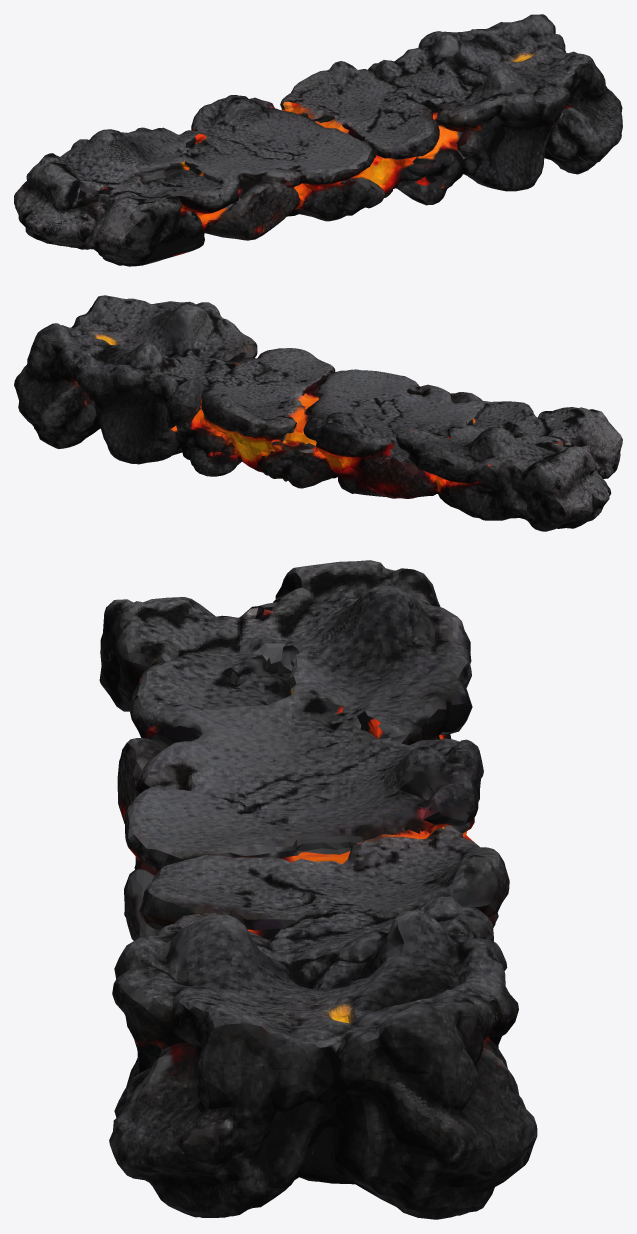
Rendered from volcano_cave_crusted_lava_bank.glb.
3 views of the same model, one above another, from view 1: azimuth 30°, elevation 25°; view 2: azimuth 150°, elevation 25°; view 3: azimuth 270°, elevation 25° (orthographic). The views are drawn at different scales.
Visible parts, largest first — view 1: temp_mesh.ply; view 2: temp_mesh.ply; view 3: temp_mesh.ply.
Boxes of the visible parts, x1=… form: temp_mesh.ply: x1=14, y1=14, x2=622, y2=266; temp_mesh.ply: x1=14, y1=295, x2=622, y2=531; temp_mesh.ply: x1=99, y1=560, x2=537, y2=1219.
Bounding box in the file's own units: 1.97 × 0.3862 × 0.6692.
Materials: 1 (1 with a texture image).
